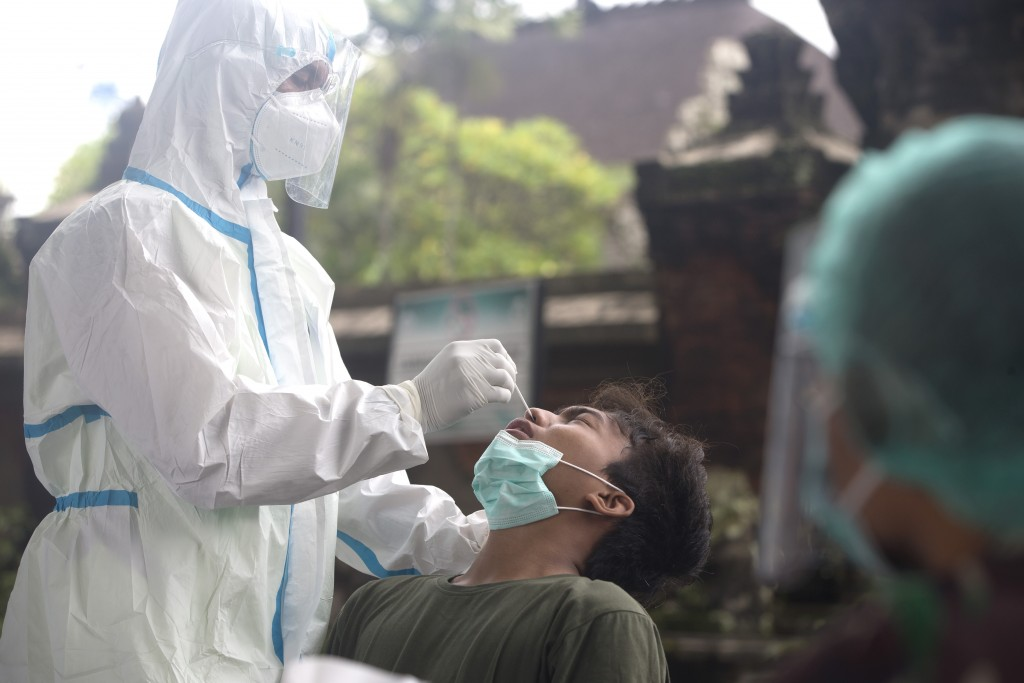Coverall: (1, 8, 436, 683)
Face_Shield: (264, 20, 366, 219)
Gloves: (395, 330, 526, 448)
mask_weared_incorrect: (469, 400, 605, 531)
with_mask: (251, 59, 346, 188)
